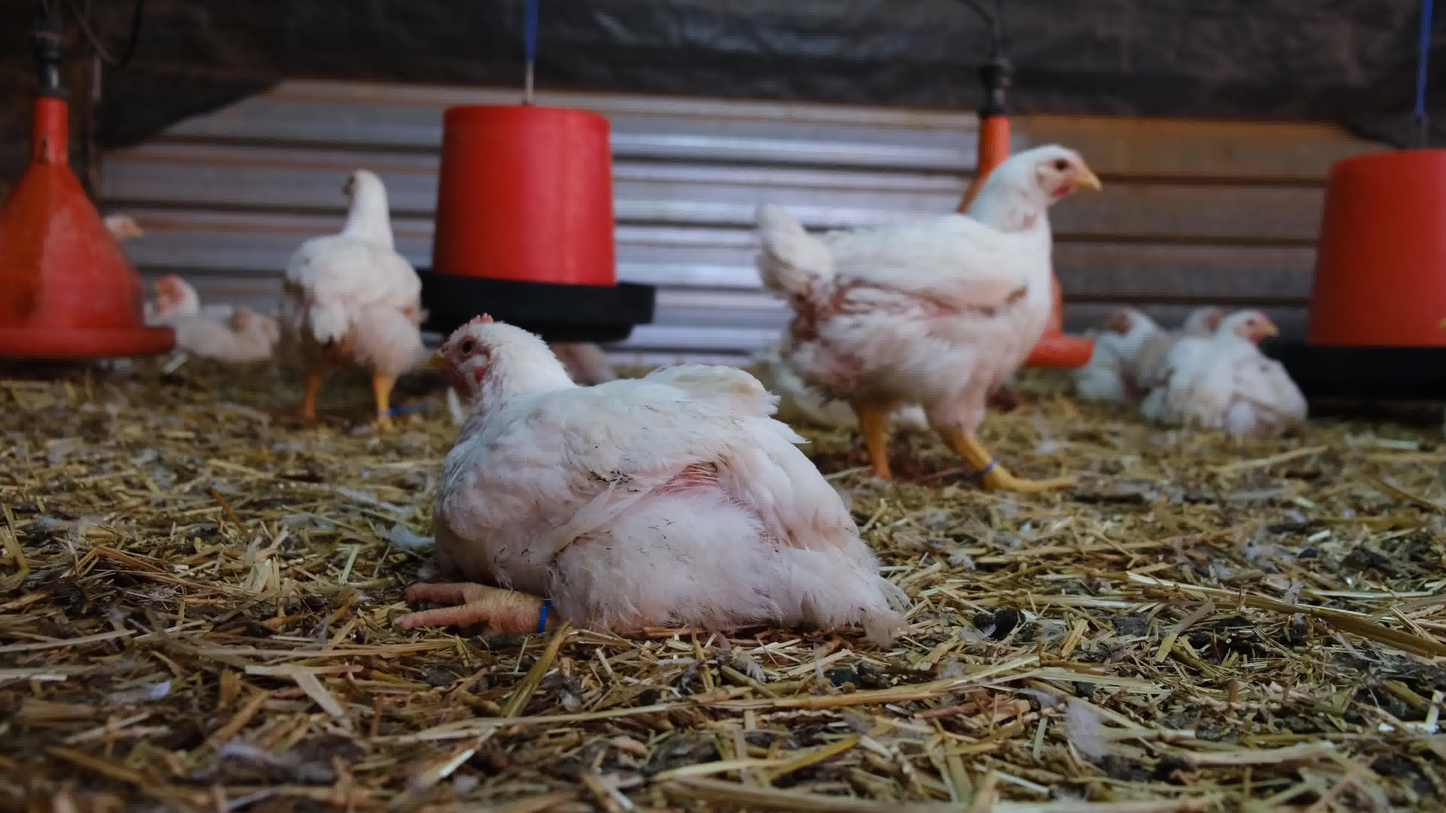AbNormal: (395, 311, 905, 635), (1161, 307, 1313, 434), (136, 268, 278, 366), (1068, 298, 1168, 410), (1156, 296, 1235, 414)
Normal: (760, 145, 1106, 506), (283, 164, 417, 437), (97, 204, 151, 256)
